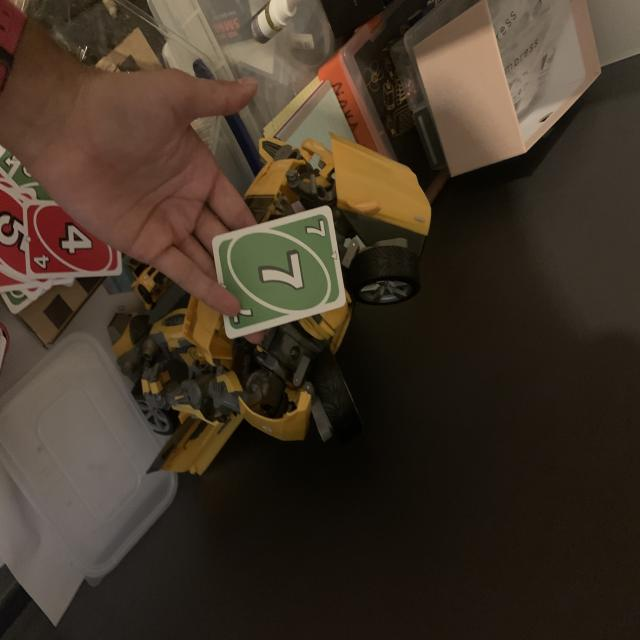lgreen-7: (300, 213, 329, 243)
